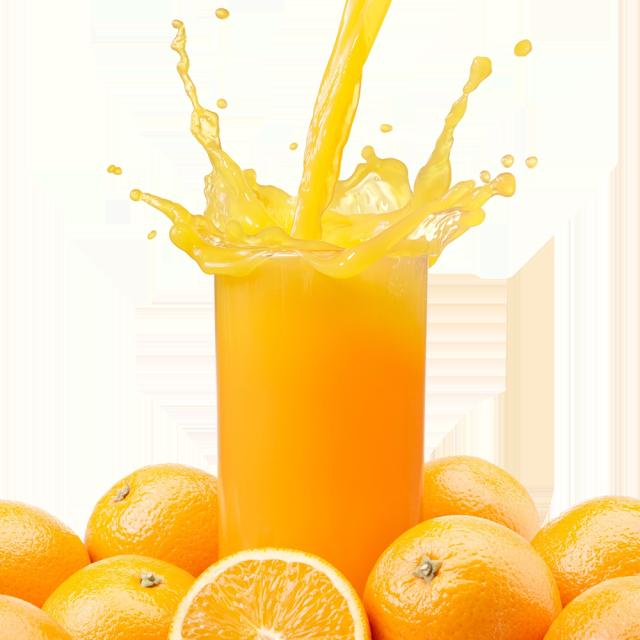orange: (354, 511, 564, 640), (162, 543, 372, 640), (422, 432, 542, 560), (87, 463, 225, 569), (42, 551, 203, 640), (531, 486, 640, 605), (1, 496, 92, 616), (530, 571, 640, 640)
